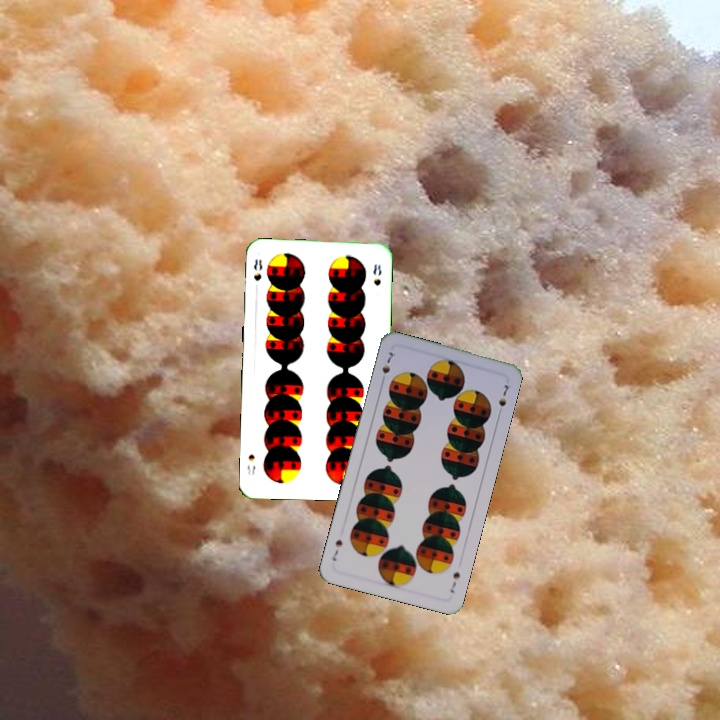S7: (377, 348, 396, 386), (446, 568, 463, 596)
S8: (250, 255, 265, 283)
